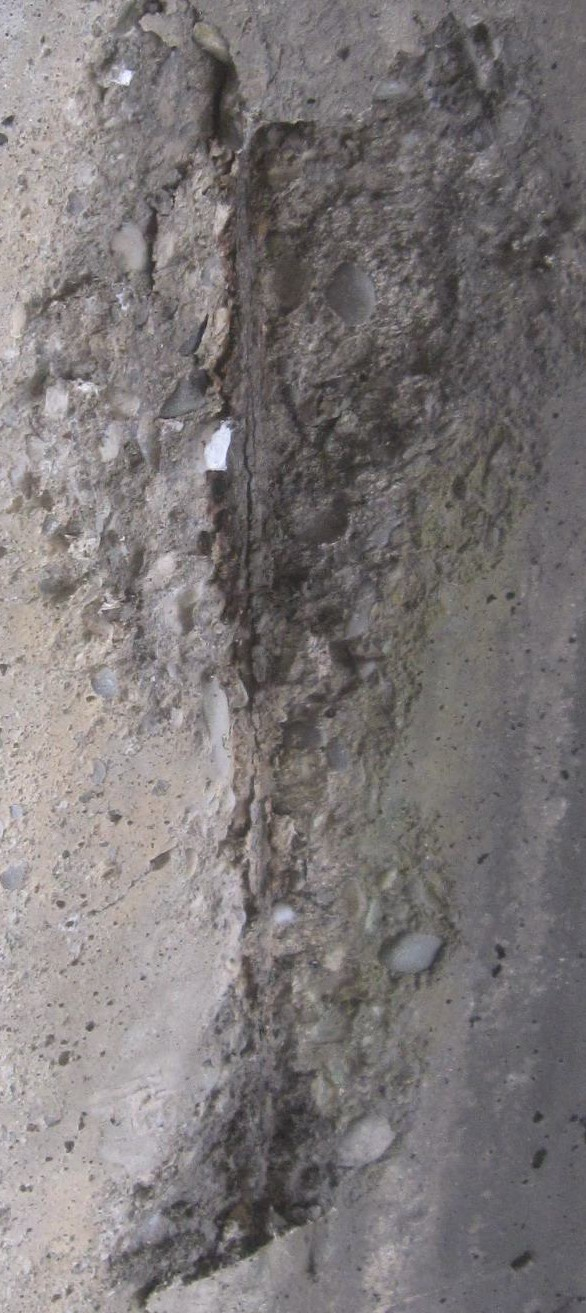Exposed reinforcement: (230, 174, 274, 683)
Spalling: (1, 1, 586, 1313)
